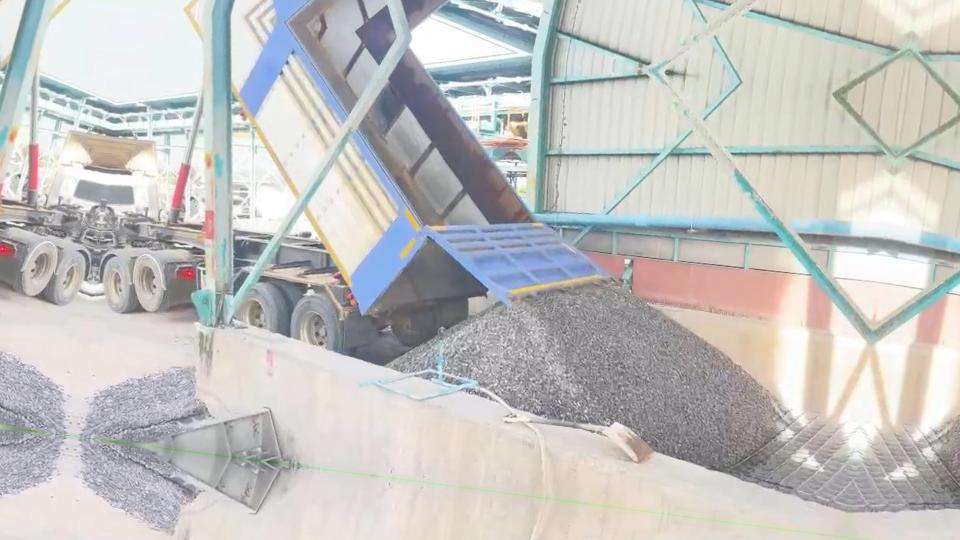gravel: (389, 282, 785, 469), (81, 367, 206, 442)
